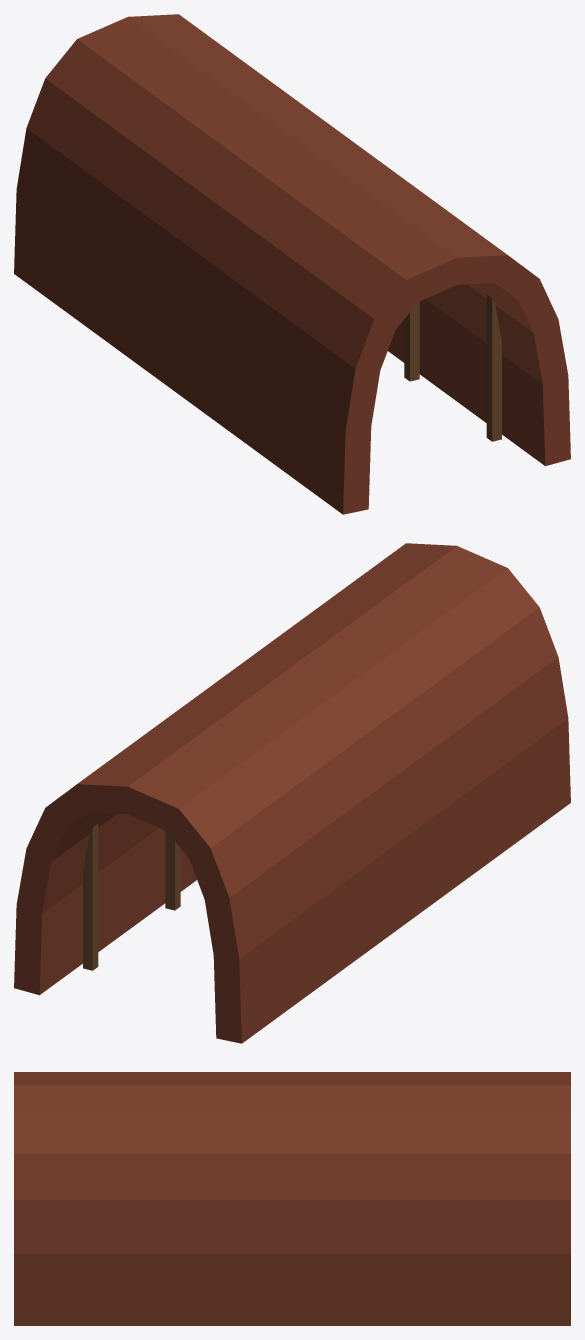
Rendered from SM_TunnelSegment_20m.fbx.
3 renders of one model, top to bottom at view 1: azimuth 30°, elevation 25°; view 2: azimuth 150°, elevation 25°; view 3: azimuth 270°, elevation 25°, orthographic. The views are drawn at different scales.
Visible parts, largest first — view 1: TunnelSegment_20m; view 2: TunnelSegment_20m; view 3: TunnelSegment_20m.
Part boxes in pixels (left/top/right/bottom): TunnelSegment_20m: left=14, top=14, right=570, bottom=514; TunnelSegment_20m: left=14, top=543, right=570, bottom=1043; TunnelSegment_20m: left=14, top=1072, right=570, bottom=1325.
Bounding box in the file's own units: 800 × 2000 × 772.
